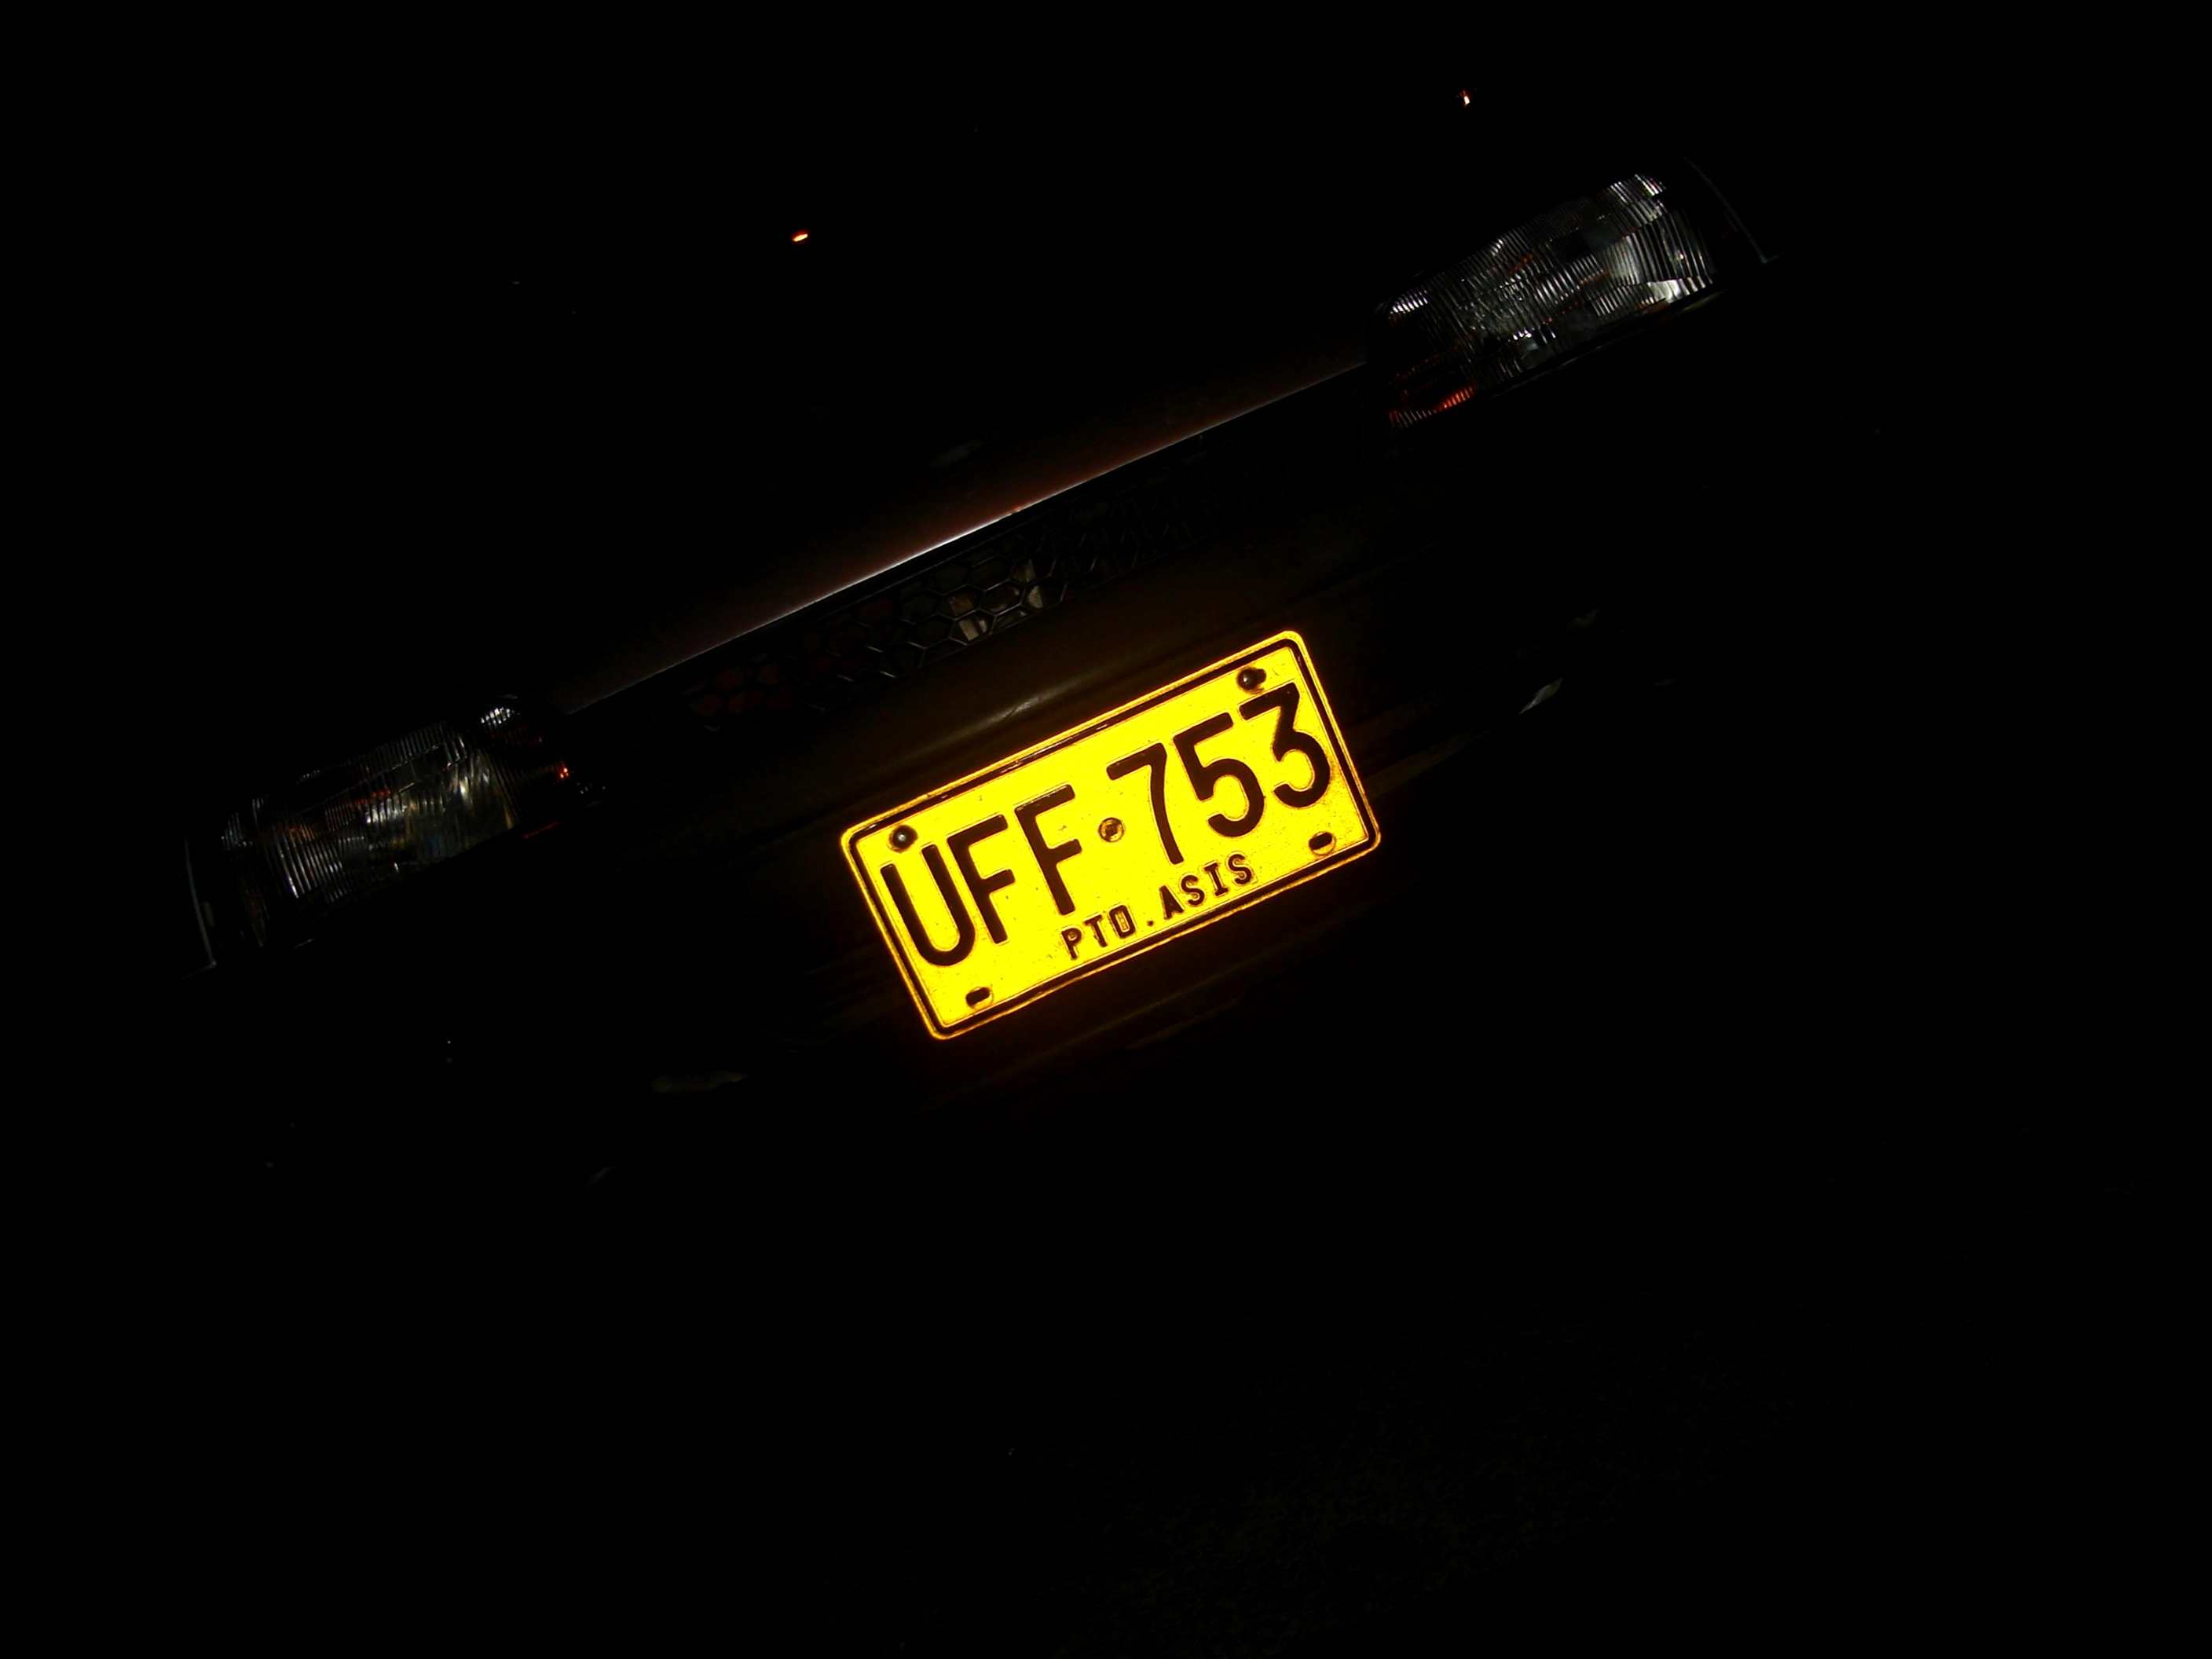placas: (797, 602, 1413, 1073)
